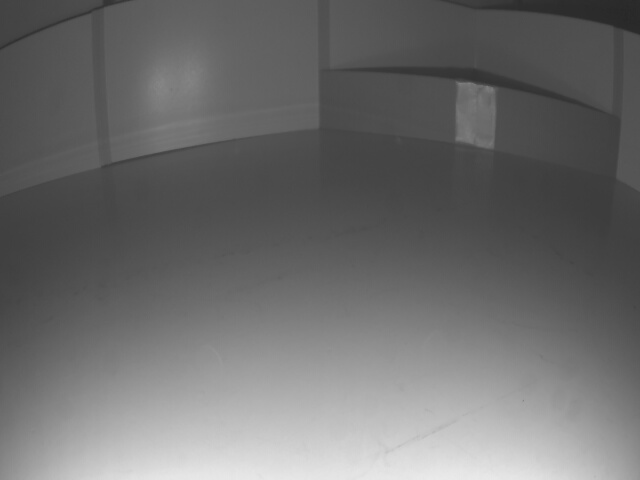Point: (316, 68, 617, 178)
